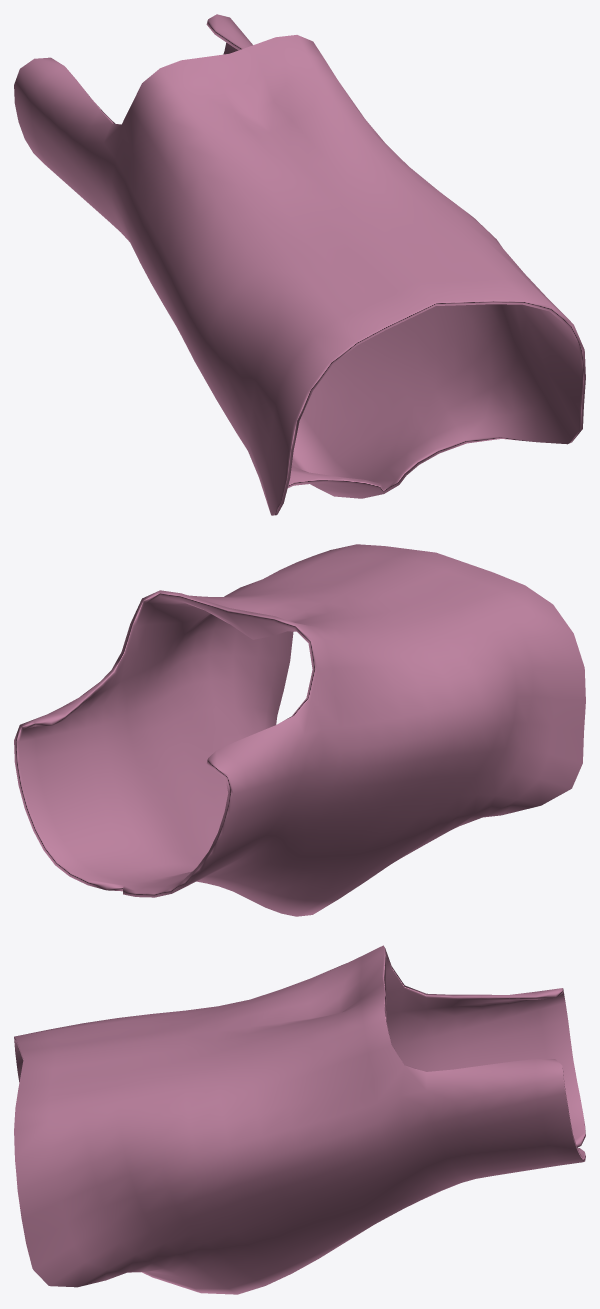
3 views of the same model, one above another, from view 1: azimuth 30°, elevation 25°; view 2: azimuth 150°, elevation 25°; view 3: azimuth 270°, elevation 25° (orthographic). The views are drawn at different scales.
Visible parts, largest first — view 1: 喉咽; view 2: 喉咽; view 3: 喉咽.
Part boxes in pixels (x1,y1,x2,y2): 喉咽: (14,14,585,515); 喉咽: (14,544,585,916); 喉咽: (14,945,585,1294).
Size of the model in its own units: 0.0425 by 0.0495 by 0.0796.
